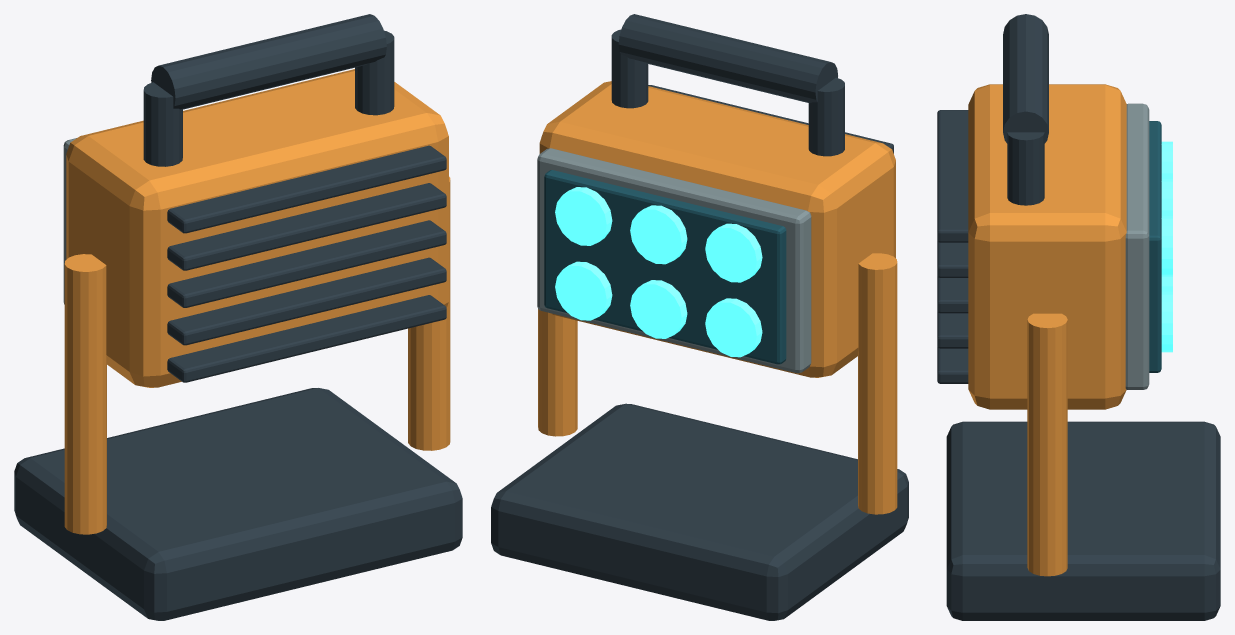
Rendered from argi_worklight.glb.
3 views of the same model, side by side, from view 1: azimuth 30°, elevation 25°; view 2: azimuth 150°, elevation 25°; view 3: azimuth 270°, elevation 25° (orthographic). The views are drawn at different scales.
Visible parts, largest first — view 1: argi_worklight_mesh, Lamp_pitch_mesh; view 2: argi_worklight_mesh, Lamp_pitch_mesh; view 3: argi_worklight_mesh, Lamp_pitch_mesh.
Part boxes in pixels (x1,y1,x2,y2): argi_worklight_mesh: (14,14,462,620); Lamp_pitch_mesh: (63,69,448,387); argi_worklight_mesh: (491,14,908,620); Lamp_pitch_mesh: (537,81,895,377); argi_worklight_mesh: (946,14,1220,620); Lamp_pitch_mesh: (937,84,1172,409).
Size of the model in its own units: 0.288 by 0.376 by 0.1965.
